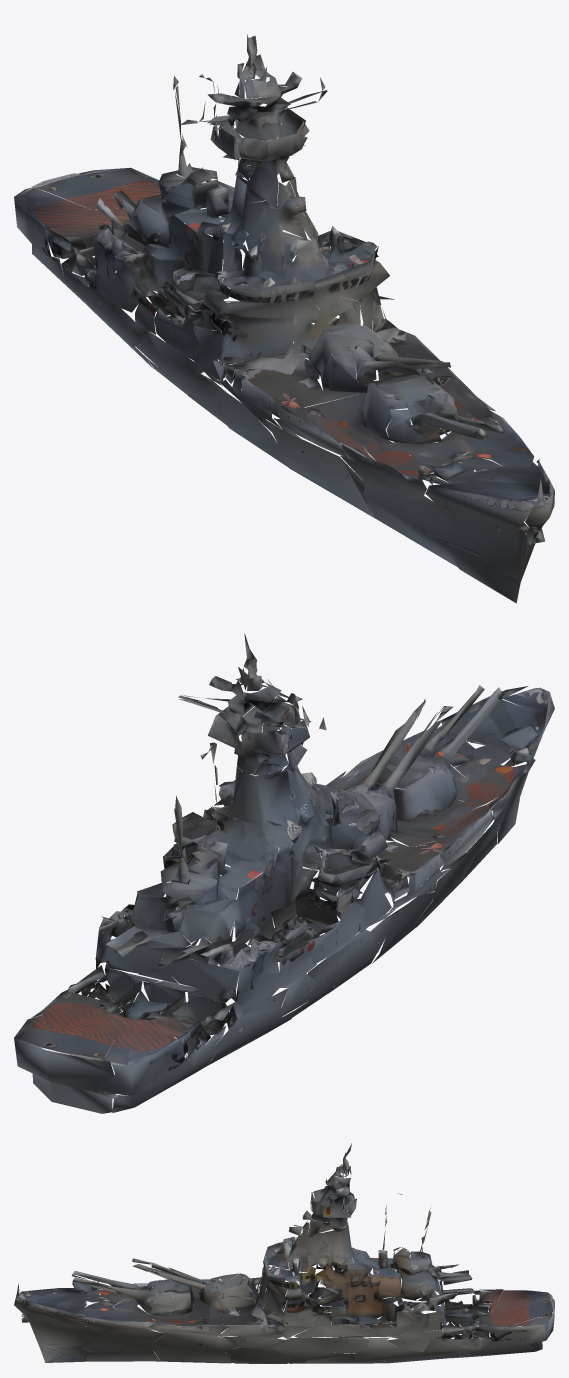
File: battleship_lod1.glb
3 views of the same model, one above another, from view 1: azimuth 30°, elevation 25°; view 2: azimuth 150°, elevation 25°; view 3: azimuth 270°, elevation 25° (orthographic). The views are drawn at different scales.
Parts seen in each view (by area): view 1: body; view 2: body; view 3: body.
Part boxes in pixels (x1,y1,x2,y2): body: [14, 34, 554, 603]; body: [14, 633, 554, 1113]; body: [14, 1143, 554, 1363].
Size of the model in its own units: 5.28 by 9.99 by 22.16.
1 material, 1 textured.
